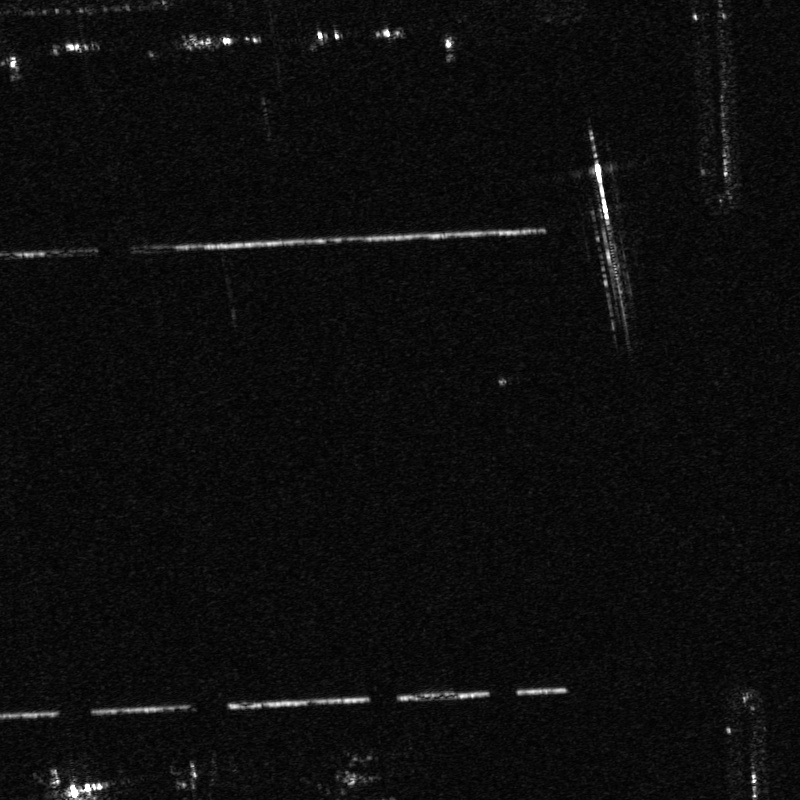A320/321: (38, 764, 115, 799)
